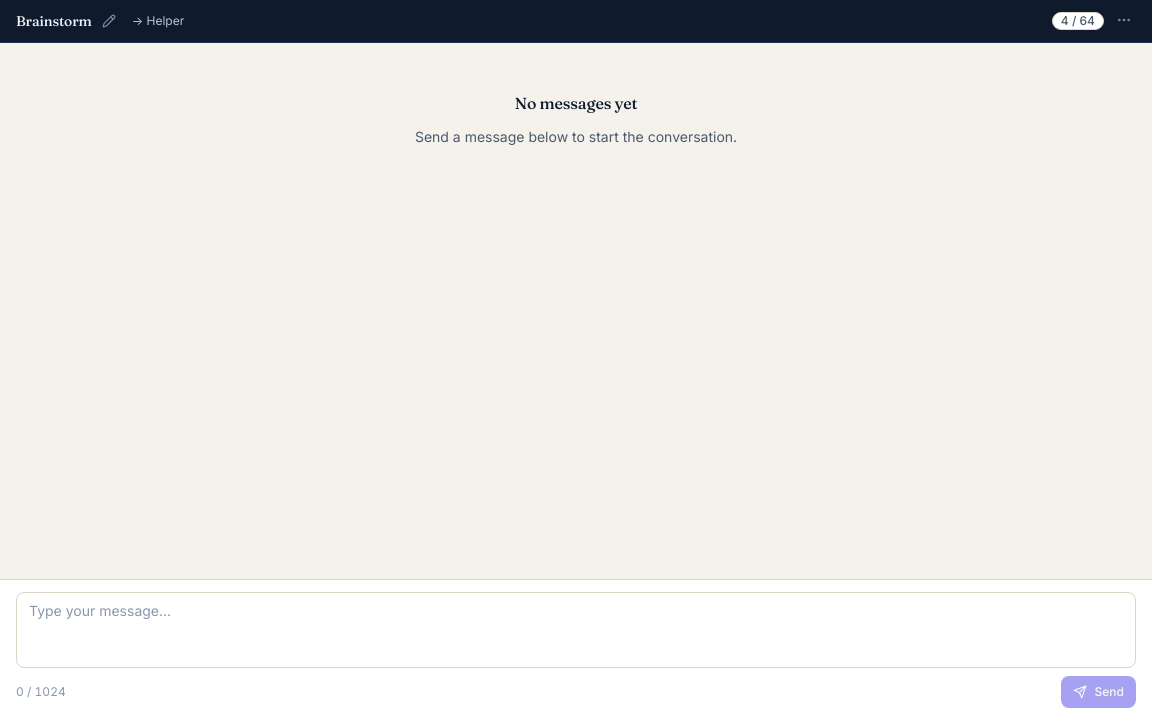
Test case: ConversationView — SSE wiring › CONVERSATION_FULL pre-stream: composer replaced by banner; no toast
Type "hi" into the text box with test id "composer-textarea".
click(576, 630); type("hi")  # box 16,592 -> 1136,668
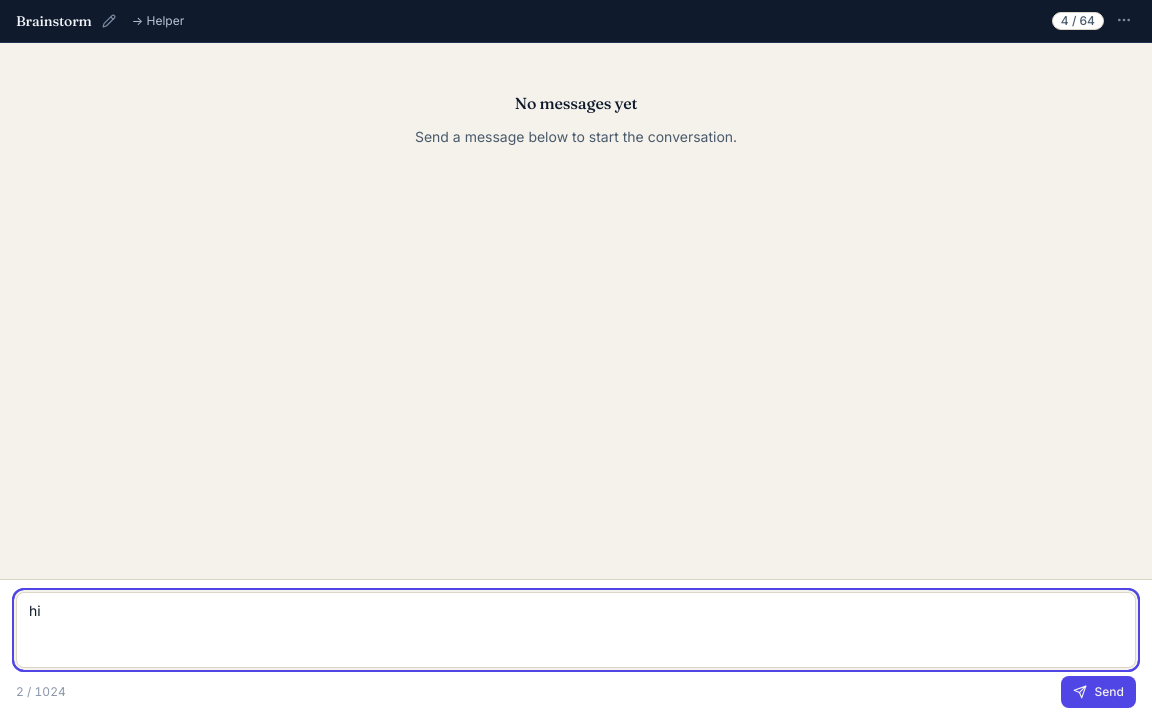
Type keys "{Control>}{Enter}{/Control}"
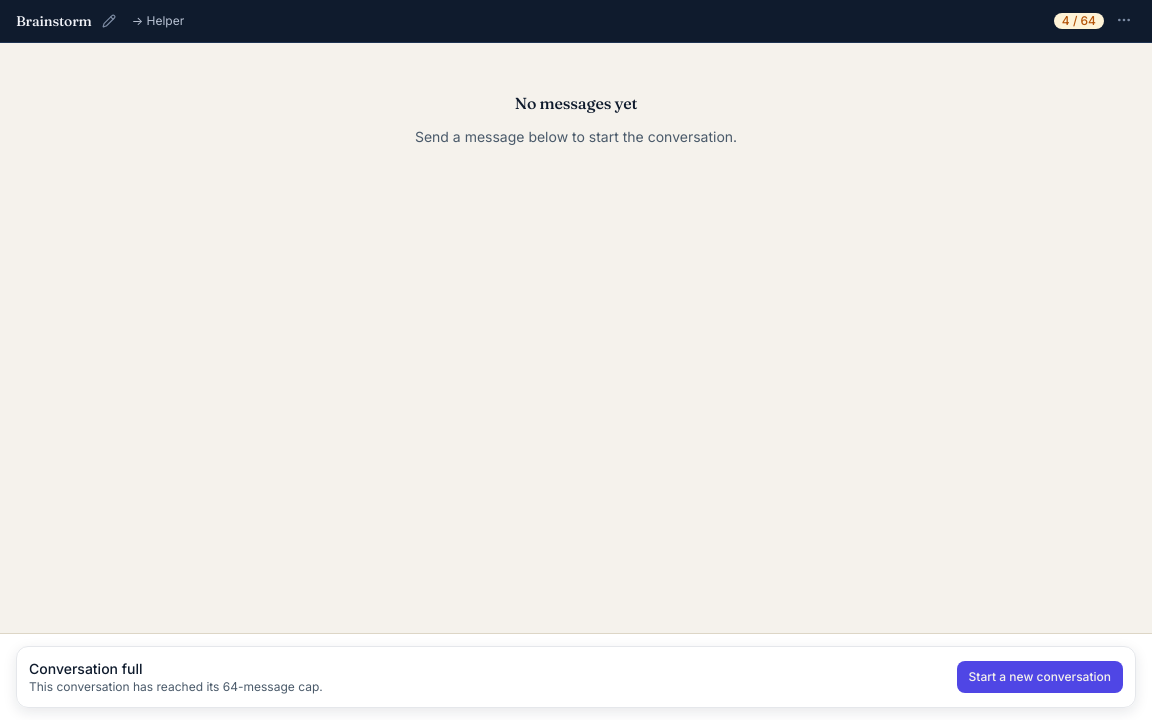
Check: the element with test id "composer-full-banner" is shown, box 0,633 -> 1151,719
